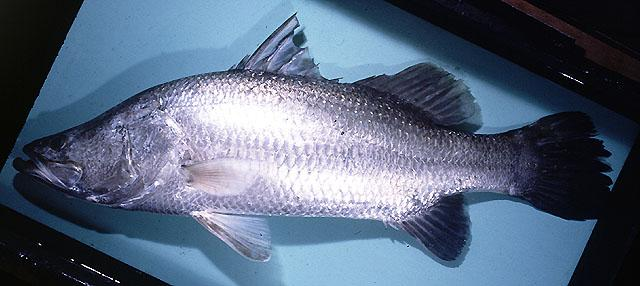Mulut: (0, 119, 64, 205)
Sirip Anal: (386, 184, 486, 274)
Sirip Dada: (164, 146, 282, 208)
Sirip Ekor: (497, 99, 628, 230)
Sirip Perut: (181, 204, 289, 276)
Sirip Punggung: (226, 4, 494, 146)
